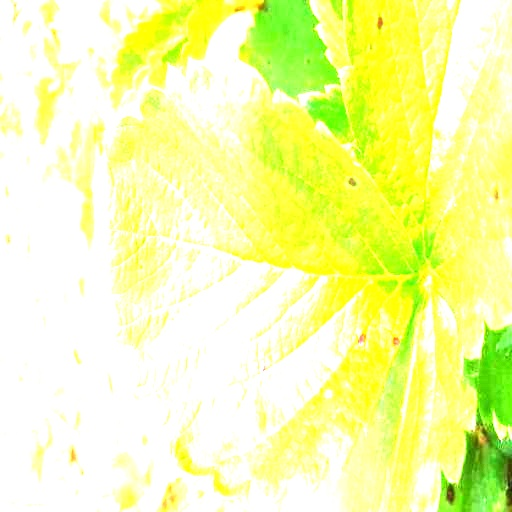Leaf Spot: (89, 56, 429, 511), (338, 0, 511, 363), (240, 0, 341, 100)
